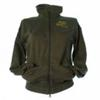felpa: (11, 4, 87, 94)
